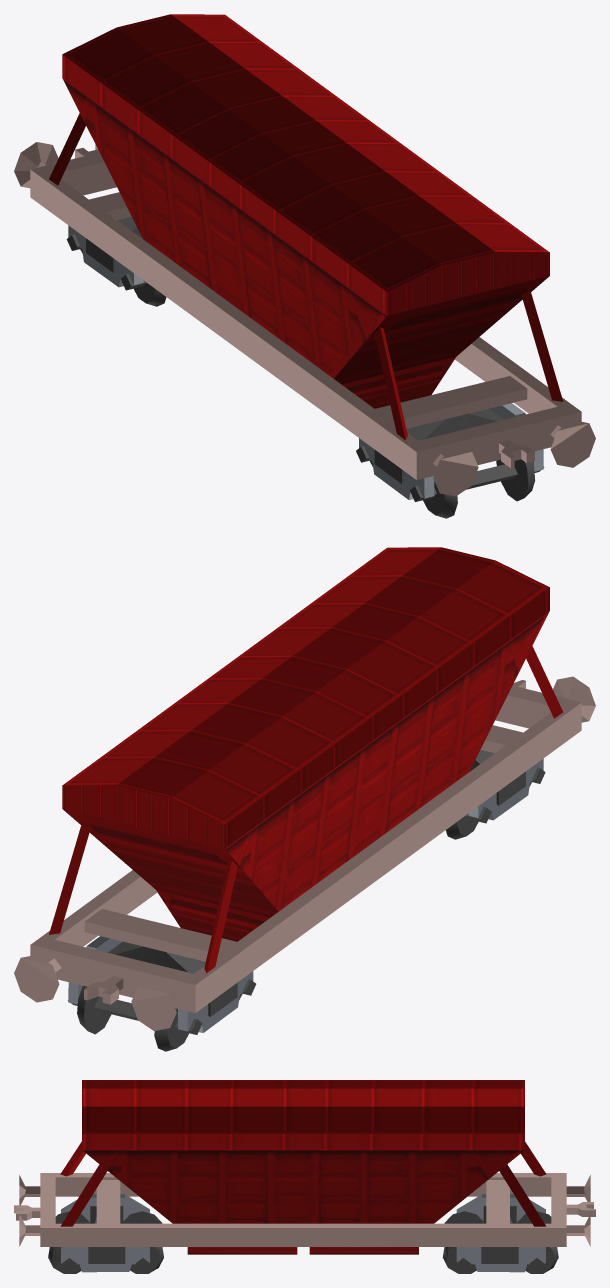
Rendered from hoppercarred.dae.
3 views of the same model, one above another, from view 1: azimuth 30°, elevation 25°; view 2: azimuth 150°, elevation 25°; view 3: azimuth 270°, elevation 25° (orthographic). The views are drawn at different scales.
Visible parts, largest first — view 1: 9.0.242.0_Pts_Material_Surf, 9.0.242.0_Pts_Material__4__Surf, 9.0.242.0_Pts_Material__2__Surf, 9.0.242.0_Pts_Material__3__Surf; view 2: 9.0.242.0_Pts_Material_Surf, 9.0.242.0_Pts_Material__4__Surf, 9.0.242.0_Pts_Material__2__Surf, 9.0.242.0_Pts_Material__3__Surf; view 3: 9.0.242.0_Pts_Material_Surf, 9.0.242.0_Pts_Material__4__Surf, 9.0.242.0_Pts_Material__2__Surf, 9.0.242.0_Pts_Material__3__Surf.
Boxes of the visible parts, <box> form: 9.0.242.0_Pts_Material_Surf: <box>49,14,563,439</box>; 9.0.242.0_Pts_Material__4__Surf: <box>14,142,595,496</box>; 9.0.242.0_Pts_Material__2__Surf: <box>66,216,544,518</box>; 9.0.242.0_Pts_Material__3__Surf: <box>68,225,543,499</box>; 9.0.242.0_Pts_Material_Surf: <box>49,547,562,973</box>; 9.0.242.0_Pts_Material__4__Surf: <box>14,676,595,1030</box>; 9.0.242.0_Pts_Material__2__Surf: <box>68,749,545,1051</box>; 9.0.242.0_Pts_Material__3__Surf: <box>68,758,543,1032</box>; 9.0.242.0_Pts_Material_Surf: <box>60,1080,546,1254</box>; 9.0.242.0_Pts_Material__4__Surf: <box>14,1173,595,1246</box>; 9.0.242.0_Pts_Material__2__Surf: <box>48,1206,558,1273</box>; 9.0.242.0_Pts_Material__3__Surf: <box>60,1194,545,1272</box>.
Bounding box in the file's own units: 3.2 × 4.47 × 14.32.
4 materials, 1 textured.
